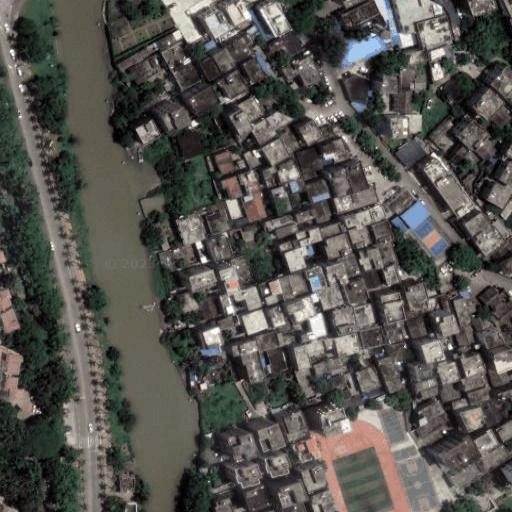building: (424, 158, 475, 218), (442, 443, 503, 490), (330, 20, 389, 67), (160, 39, 205, 89), (465, 211, 506, 256), (395, 0, 445, 36), (431, 435, 474, 474), (263, 32, 304, 69), (113, 42, 160, 74), (414, 13, 453, 50), (333, 185, 379, 215), (395, 135, 432, 169), (250, 110, 289, 142), (428, 116, 458, 155), (0, 341, 20, 398), (345, 206, 387, 233), (473, 89, 506, 122), (176, 212, 208, 246), (293, 54, 324, 89), (458, 121, 491, 153), (295, 146, 325, 181), (148, 215, 178, 250), (129, 55, 163, 85), (320, 407, 352, 438), (188, 86, 221, 116), (135, 187, 170, 215), (281, 410, 311, 441), (224, 30, 255, 60), (343, 74, 370, 108), (218, 70, 248, 100), (229, 434, 259, 464), (257, 423, 286, 454), (378, 356, 402, 392), (241, 352, 267, 385), (416, 413, 450, 438), (399, 199, 428, 228), (294, 366, 318, 401), (322, 138, 352, 166), (246, 6, 271, 39), (355, 366, 383, 395), (237, 95, 264, 125), (459, 407, 489, 434), (304, 178, 334, 205), (414, 399, 445, 425), (286, 296, 317, 322), (271, 186, 295, 219), (387, 189, 415, 217), (301, 464, 328, 493), (206, 207, 233, 235), (324, 233, 352, 260), (261, 136, 289, 163), (350, 226, 378, 253), (278, 481, 307, 507), (241, 309, 270, 335), (405, 282, 430, 312), (331, 166, 355, 197), (243, 192, 267, 223), (155, 28, 186, 52), (346, 161, 370, 192), (334, 333, 362, 359), (260, 278, 285, 307), (219, 265, 243, 295), (198, 6, 224, 33), (240, 57, 266, 84), (178, 133, 204, 160), (465, 429, 491, 456), (237, 462, 264, 488), (265, 452, 292, 478), (332, 306, 358, 333), (148, 101, 176, 126), (317, 285, 345, 310), (274, 158, 302, 183), (382, 293, 405, 323), (245, 485, 271, 511), (486, 183, 512, 209), (480, 400, 505, 427), (360, 246, 385, 273), (304, 265, 328, 293), (130, 116, 156, 141), (435, 361, 460, 387), (344, 279, 369, 305), (323, 263, 349, 288), (195, 49, 220, 75), (227, 107, 251, 134), (284, 247, 307, 275), (189, 270, 218, 292), (313, 358, 346, 377), (311, 199, 335, 225), (210, 41, 234, 67), (371, 219, 394, 246), (309, 490, 337, 512), (265, 346, 287, 374), (296, 225, 324, 247), (233, 255, 254, 284), (299, 120, 323, 145), (295, 438, 320, 462), (492, 67, 512, 97), (210, 235, 233, 261), (243, 285, 264, 313), (422, 339, 446, 363), (361, 326, 385, 350), (292, 208, 317, 231), (221, 175, 243, 201), (331, 374, 352, 401), (309, 313, 330, 340), (289, 271, 310, 298), (384, 320, 407, 344), (353, 304, 377, 327), (177, 291, 201, 314), (225, 197, 248, 221), (255, 331, 281, 352), (491, 103, 512, 129), (439, 381, 464, 402), (378, 241, 399, 266), (492, 298, 512, 324), (343, 370, 363, 396), (341, 252, 361, 278), (426, 43, 456, 60), (243, 147, 265, 170), (241, 171, 261, 196), (453, 147, 479, 166), (455, 298, 472, 327), (307, 341, 329, 363), (361, 268, 384, 289), (214, 152, 235, 175), (261, 165, 281, 189), (429, 57, 449, 81), (231, 341, 259, 358), (253, 51, 272, 76), (218, 317, 237, 342), (278, 275, 296, 301), (265, 215, 294, 231), (463, 354, 484, 376), (483, 329, 505, 350), (489, 290, 511, 311), (391, 342, 413, 363), (392, 90, 414, 111), (200, 296, 220, 319), (113, 468, 133, 491), (218, 0, 242, 19), (321, 222, 346, 240), (203, 328, 224, 349), (439, 315, 459, 337), (390, 117, 410, 139), (493, 350, 512, 373), (464, 373, 487, 392), (269, 305, 288, 328), (414, 375, 438, 393), (467, 388, 490, 406), (294, 346, 312, 369), (399, 66, 415, 91), (477, 140, 497, 160), (342, 393, 364, 411), (231, 152, 249, 174), (278, 330, 298, 349), (496, 420, 512, 443), (418, 386, 441, 402), (498, 162, 512, 188), (480, 286, 499, 305), (457, 325, 475, 345), (408, 317, 426, 337), (382, 265, 400, 285), (219, 294, 236, 315), (275, 222, 297, 238), (405, 49, 428, 64), (286, 178, 305, 196), (393, 216, 411, 234), (404, 114, 422, 131), (383, 74, 399, 93), (324, 338, 339, 358), (195, 241, 208, 263), (499, 256, 512, 277), (438, 334, 455, 350), (214, 498, 233, 512), (199, 346, 221, 358), (282, 64, 299, 79), (284, 501, 306, 512), (450, 398, 470, 410), (498, 388, 512, 405), (282, 239, 300, 252), (500, 200, 512, 219), (474, 316, 490, 330), (439, 295, 452, 311), (233, 289, 247, 303), (235, 216, 250, 227), (490, 316, 502, 328), (504, 141, 512, 159), (310, 291, 320, 304), (503, 335, 512, 347), (505, 89, 512, 102), (308, 331, 315, 341)
